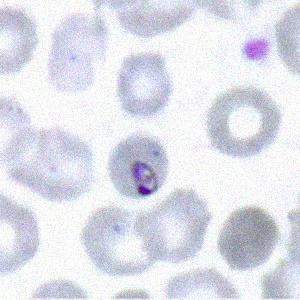Infected: (105, 135, 168, 198)
Uninfected: (5, 126, 92, 202), (206, 86, 279, 156), (135, 191, 208, 261), (80, 206, 154, 272), (46, 12, 106, 92), (217, 206, 279, 271), (116, 52, 172, 115)
